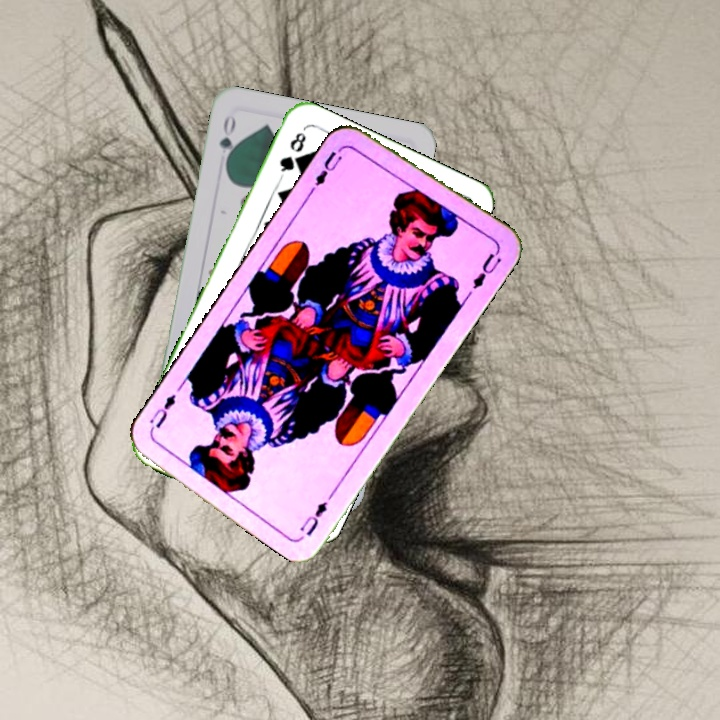EU: (306, 147, 345, 194), (295, 497, 330, 539)
G8: (275, 128, 309, 181)
GO: (215, 111, 239, 170)
